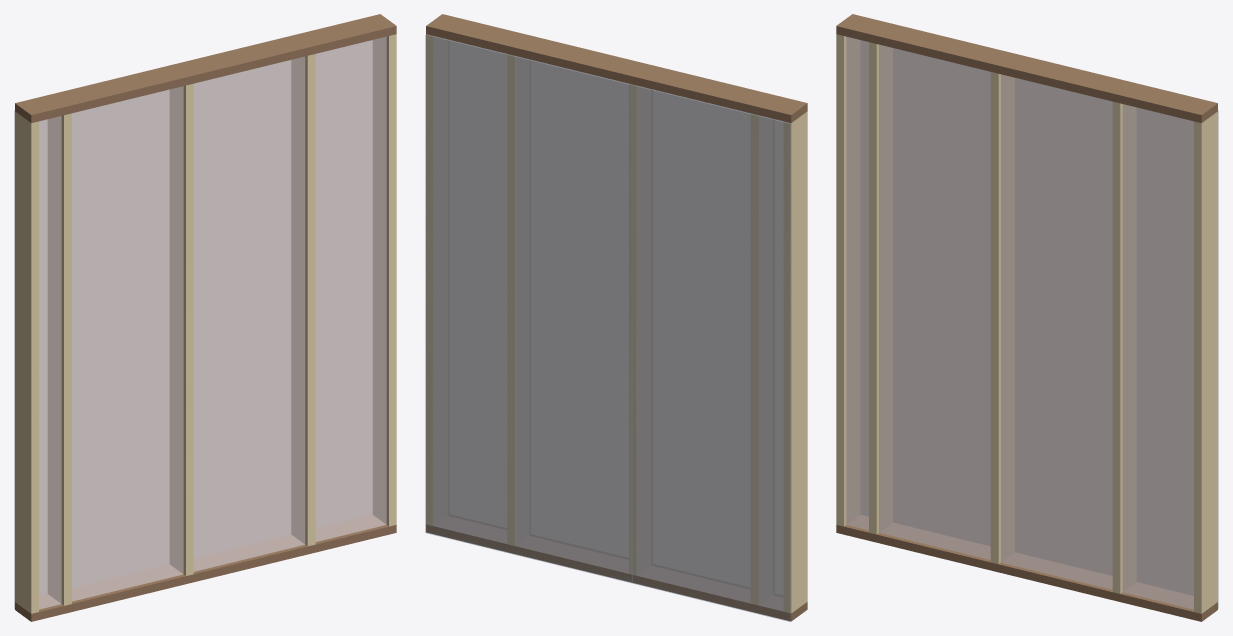
3 views of the same model, side by side, from view 1: azimuth 30°, elevation 25°; view 2: azimuth 150°, elevation 25°; view 3: azimuth 330°, elevation 25° (orthographic).
Parts seen in each view (by area): view 1: EX15 GF; view 2: EX15 GF; view 3: EX15 GF.
Part boxes in pixels (bbox=[...]): EX15 GF: bbox=[14, 14, 396, 621]; EX15 GF: bbox=[425, 14, 807, 621]; EX15 GF: bbox=[836, 14, 1218, 621].
Bounding box in the file's own units: 1.8 × 2.39 × 0.149.
